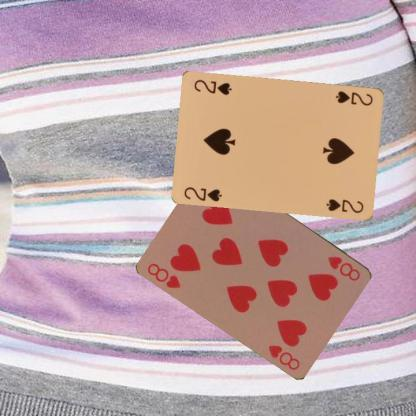2s: (333, 88, 374, 107), (181, 184, 223, 202)
8h: (325, 253, 362, 282), (145, 261, 182, 290)
